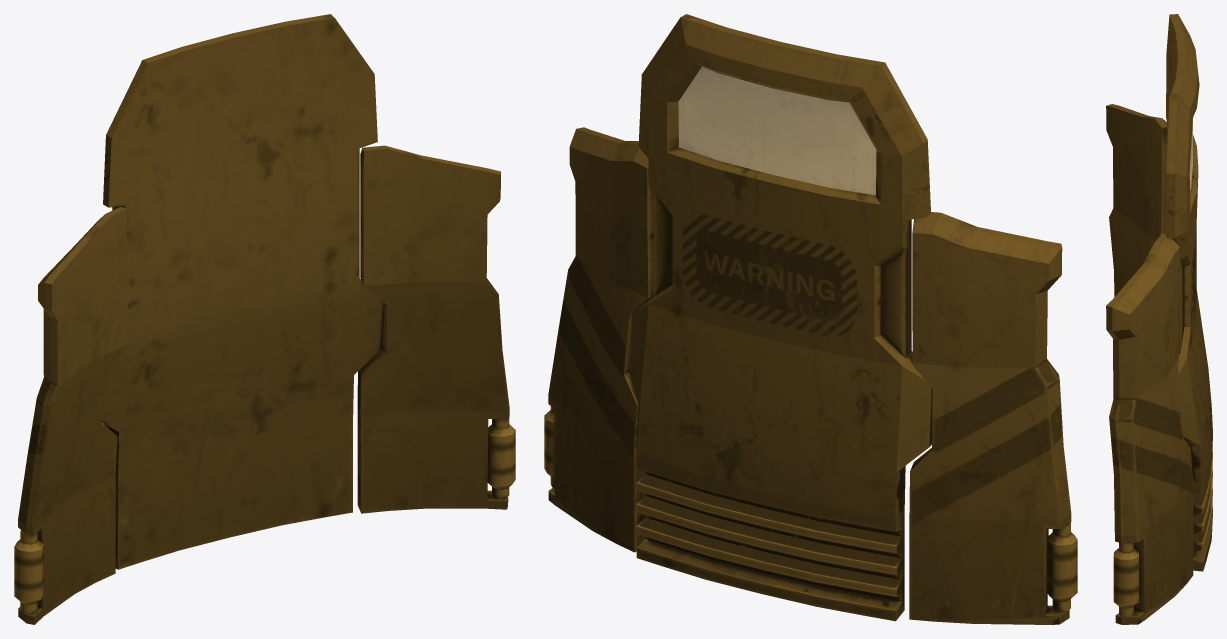
The model's file is Pfb_Soda_Shield2.fbx.
3 renders of one model, left to right at view 1: azimuth 30°, elevation 25°; view 2: azimuth 150°, elevation 25°; view 3: azimuth 270°, elevation 25°, orthographic. The views are drawn at different scales.
Parts seen in each view (by area): view 1: SodaShield2 1; view 2: SodaShield2 1; view 3: SodaShield2 1.
Part boxes in pixels (x1=…): SodaShield2 1: x1=14, y1=14, x2=515, y2=624; SodaShield2 1: x1=544, y1=14, x2=1077, y2=624; SodaShield2 1: x1=1106, y1=14, x2=1212, y2=624.
Size of the model in its own units: 1.03 by 1 by 0.2103.
Materials: 1 (1 with a texture image).
